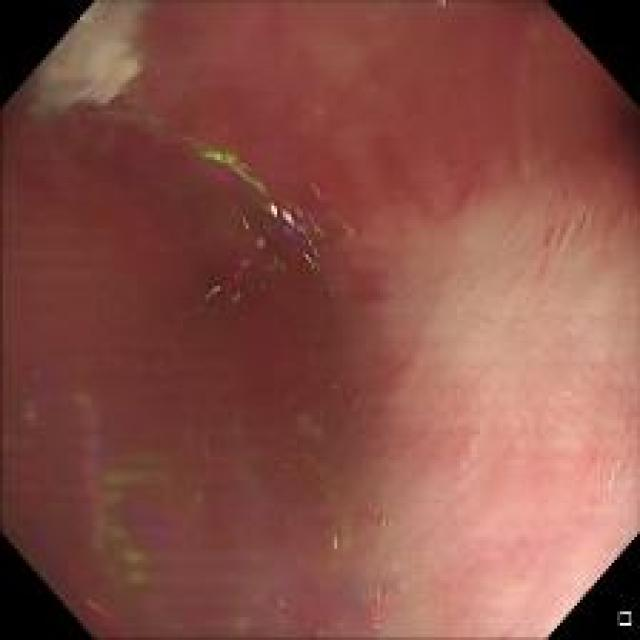blur: (72, 144, 591, 618)
bubbles: (366, 509, 395, 535)
color misalignment: (184, 134, 360, 322), (79, 392, 182, 602), (6, 364, 49, 494), (359, 570, 400, 631)
